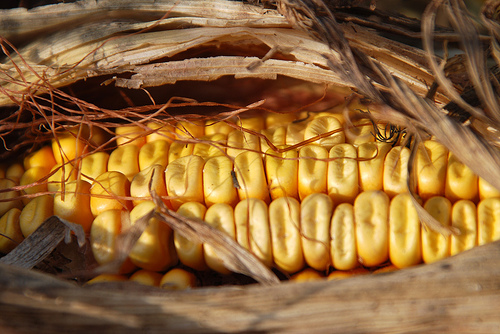corn: (0, 120, 499, 287)
